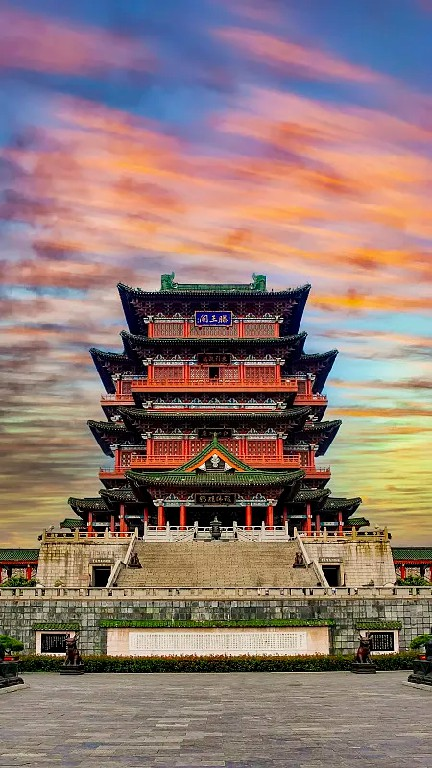Teng: (60, 271, 369, 536)
